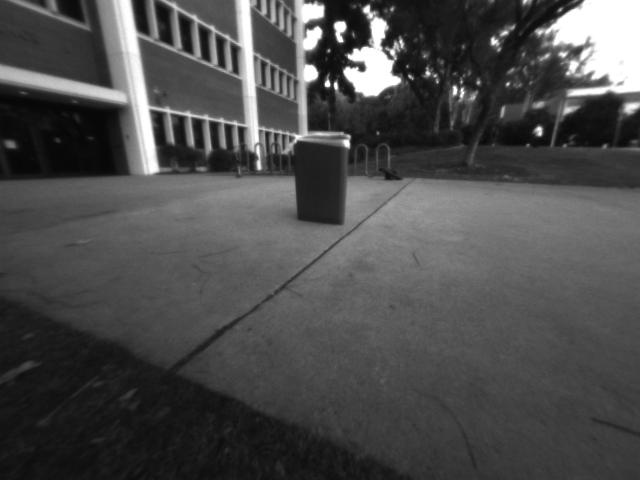trashcan_open: (284, 130, 350, 228)
